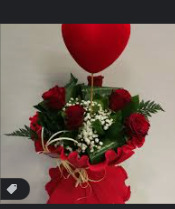RedRose: (41, 84, 65, 110), (125, 114, 150, 138), (110, 86, 130, 113), (64, 104, 85, 129), (87, 75, 104, 87)
